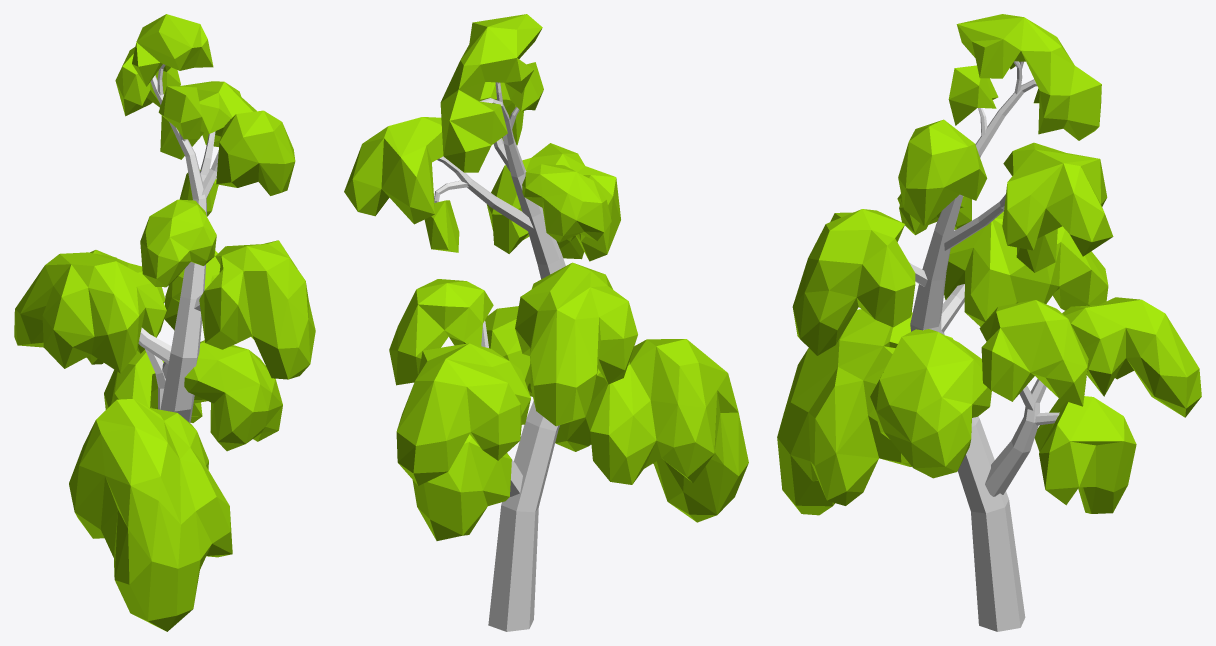
File: Tree_8.fbx
3 renders of one model, left to right at view 1: azimuth 30°, elevation 25°; view 2: azimuth 150°, elevation 25°; view 3: azimuth 270°, elevation 25°, orthographic. The views are drawn at different scales.
Visible parts, largest first — view 1: tree_8; view 2: tree_8; view 3: tree_8.
Boxes of the visible parts, box(x1,y1,x2,y2) form: tree_8: box(14, 14, 315, 631); tree_8: box(344, 14, 748, 631); tree_8: box(777, 14, 1201, 631).
Bounding box in the file's own units: 252 × 532 × 335.
